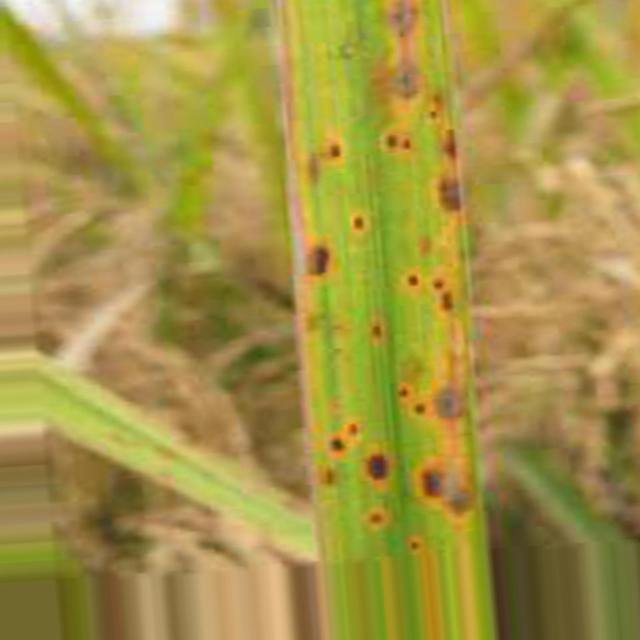Brown_Spot: (414, 456, 479, 516), (382, 36, 424, 98), (292, 234, 332, 275), (386, 0, 418, 36), (435, 381, 464, 419), (439, 178, 462, 211), (381, 131, 411, 151), (400, 265, 422, 291), (316, 464, 339, 486), (421, 100, 445, 121), (340, 419, 365, 439), (369, 454, 388, 480), (442, 129, 458, 159), (350, 210, 370, 232), (370, 318, 386, 345), (406, 535, 425, 555), (329, 435, 346, 456), (326, 138, 342, 159), (368, 509, 386, 526), (414, 399, 428, 418), (441, 291, 454, 311), (398, 382, 411, 398), (432, 278, 446, 291)
